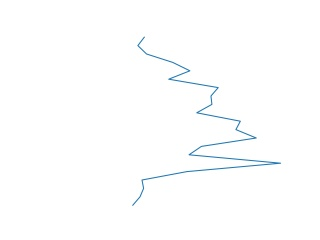floodSwamp: (125, 37, 285, 206)
